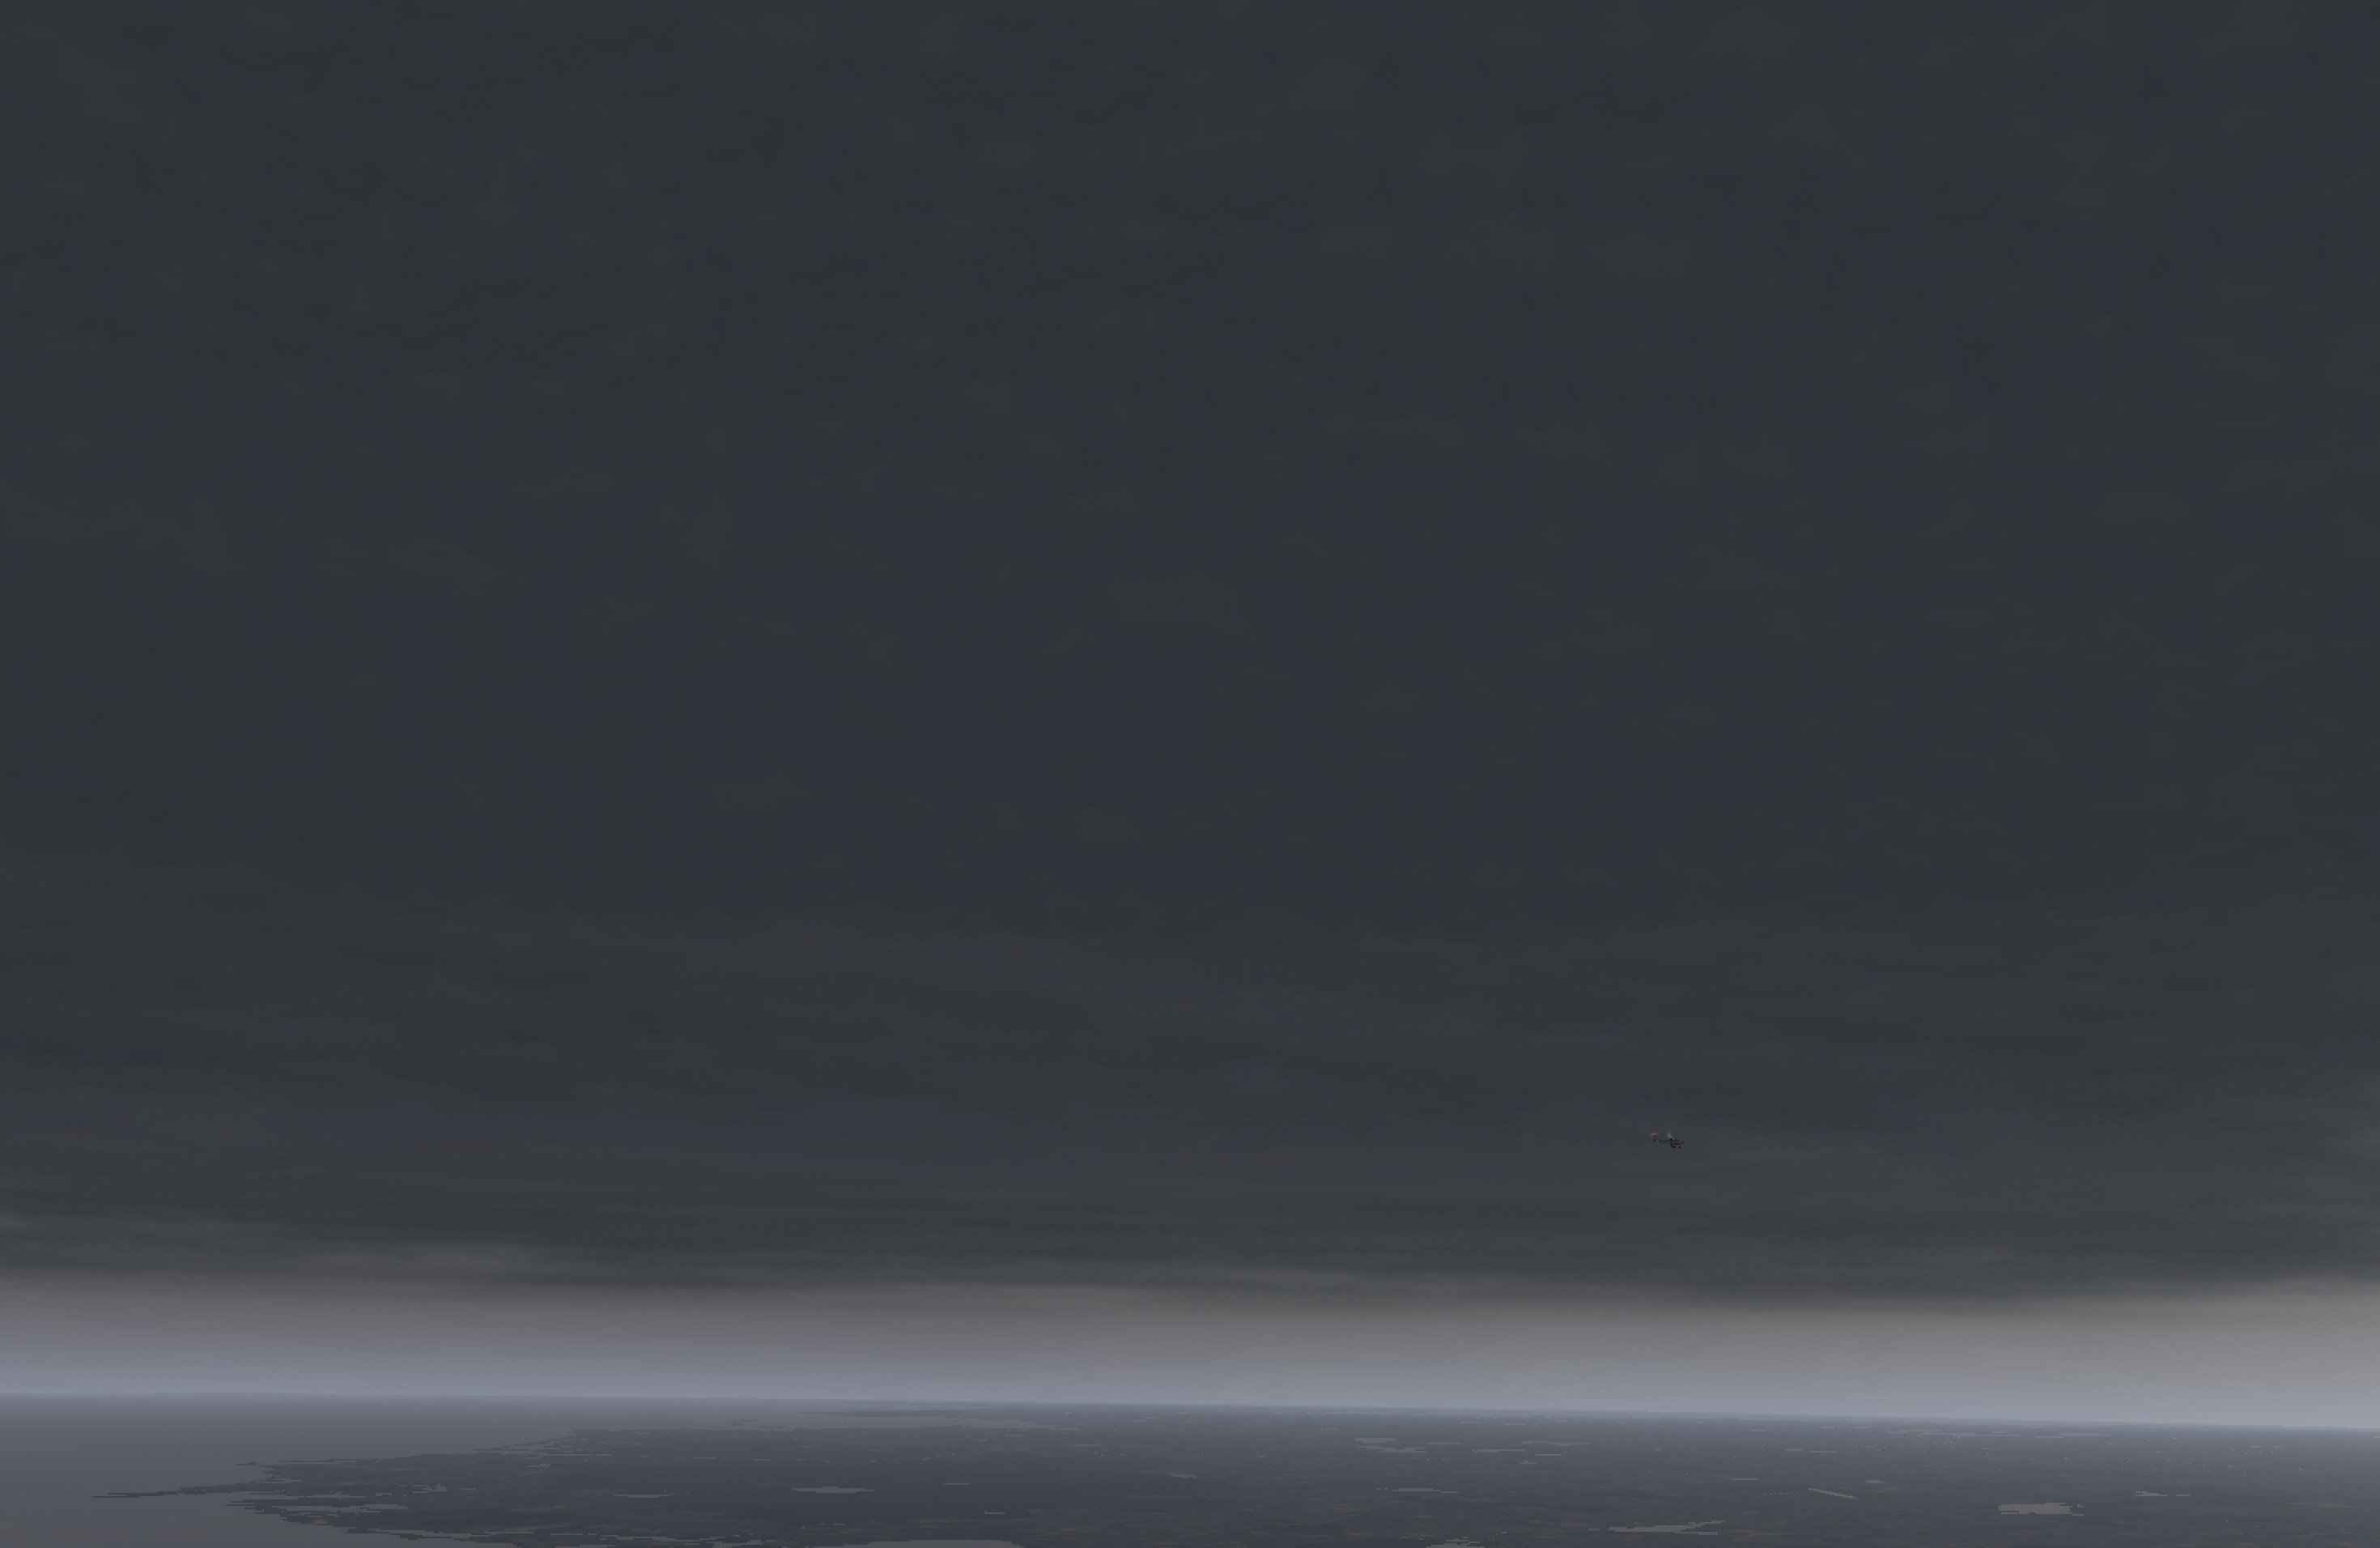aircraft: (1658, 1137, 1690, 1147)
